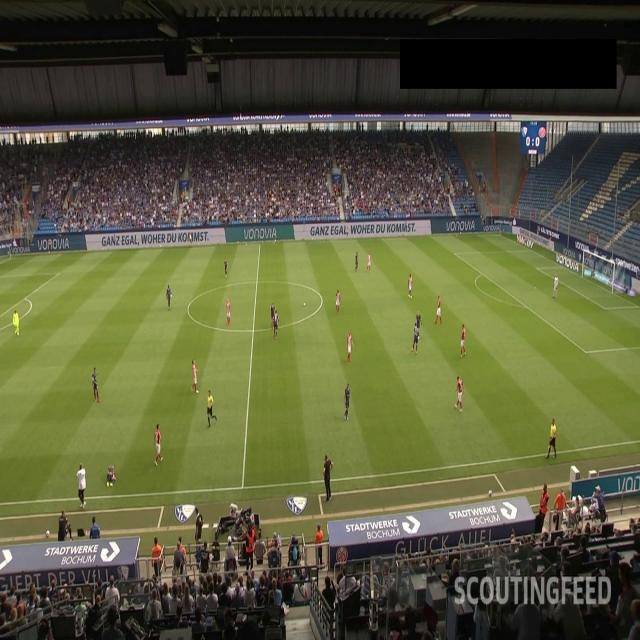ball: (303, 301, 306, 308)
player: (155, 421, 163, 465), (343, 381, 351, 418), (192, 356, 200, 393), (12, 308, 21, 340), (456, 374, 463, 410), (92, 368, 99, 402), (106, 464, 116, 486), (436, 294, 443, 325), (551, 271, 559, 297), (165, 284, 172, 312), (407, 274, 414, 300), (346, 333, 352, 363), (226, 298, 232, 328), (353, 248, 359, 274), (415, 308, 421, 334), (335, 288, 341, 314), (461, 323, 466, 354), (414, 322, 419, 352), (271, 303, 276, 327), (274, 311, 278, 337), (367, 251, 371, 272), (224, 256, 228, 276)
